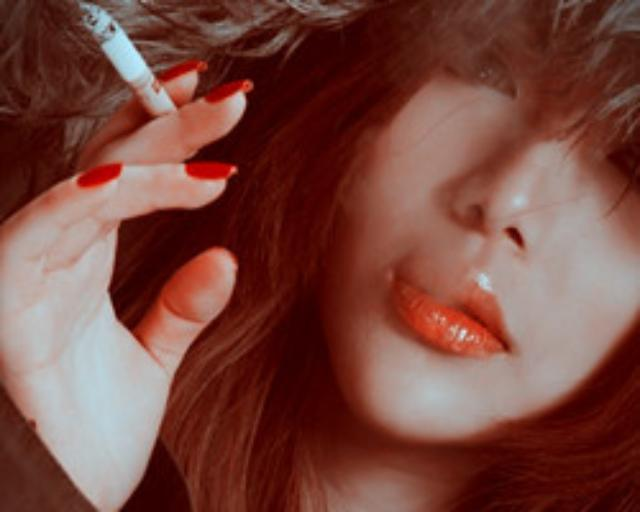Smoking: (78, 4, 178, 116)
